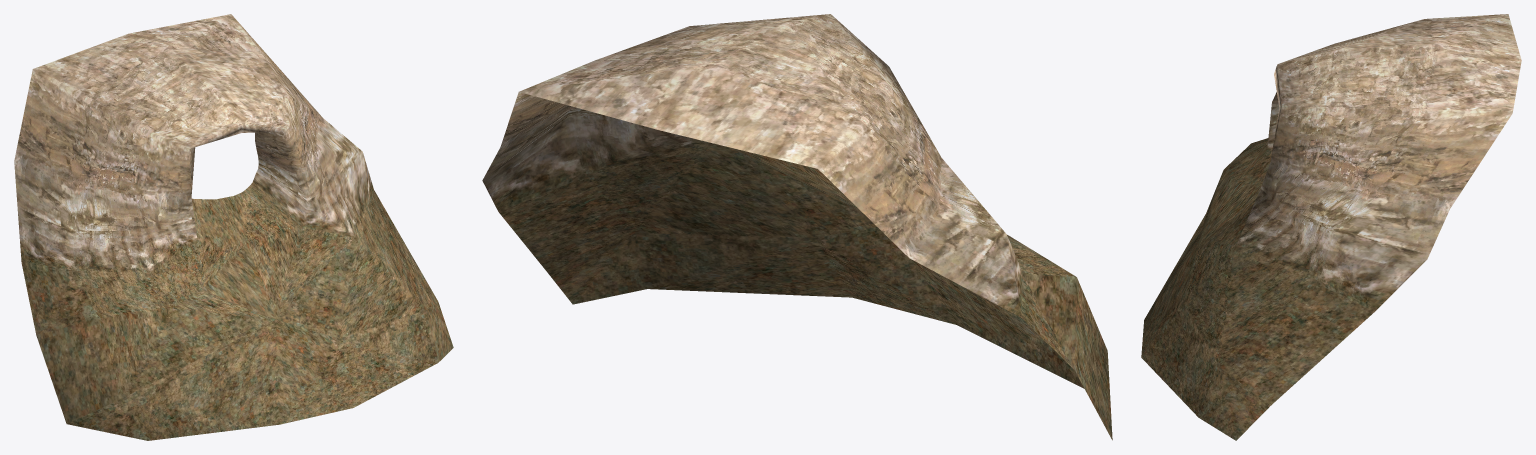
Rendered from thm_all_cave_s01_mirror_r0_mesh_l3.fbx.
The picture shows the model from 3 angles, left to right: view 1: azimuth 30°, elevation 25°; view 2: azimuth 150°, elevation 25°; view 3: azimuth 270°, elevation 25°; orthographic projection. The views are drawn at different scales.
Visible parts, largest first — view 1: mesh_node; view 2: mesh_node; view 3: mesh_node.
Boxes of the visible parts, x1,y1,x2,y2 form: mesh_node: (14,14,453,440); mesh_node: (482,14,1112,440); mesh_node: (1141,14,1521,440).
Bounding box in the file's own units: 48.32 × 33.74 × 39.28.
